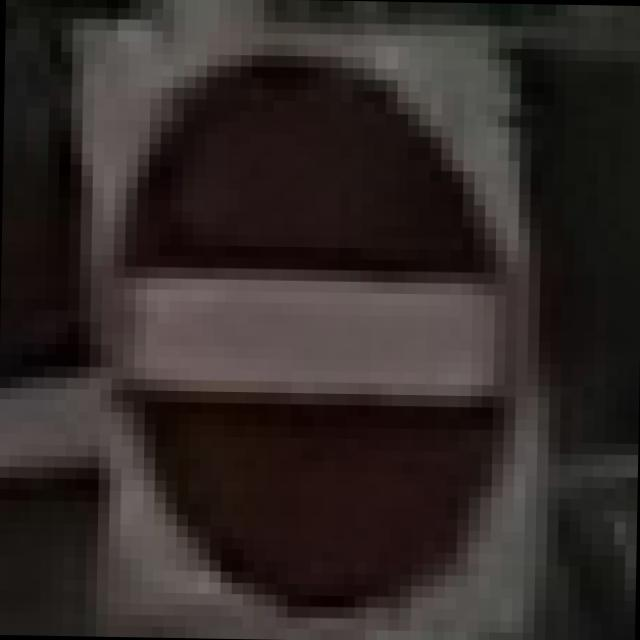noentry_sign: (62, 18, 556, 633)
